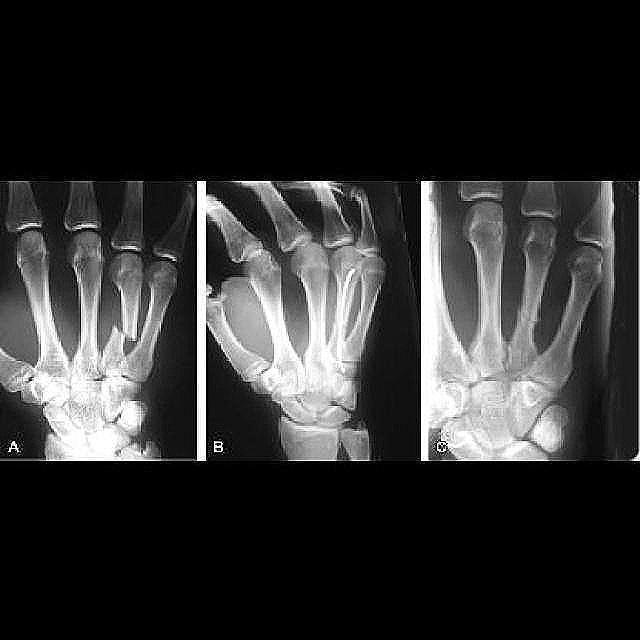bone: (109, 314, 138, 348), (513, 298, 542, 329), (330, 312, 350, 330)
